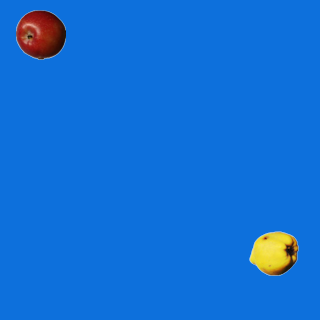Apple Braeburn: (15, 9, 65, 59)
Quince: (248, 228, 298, 278)
